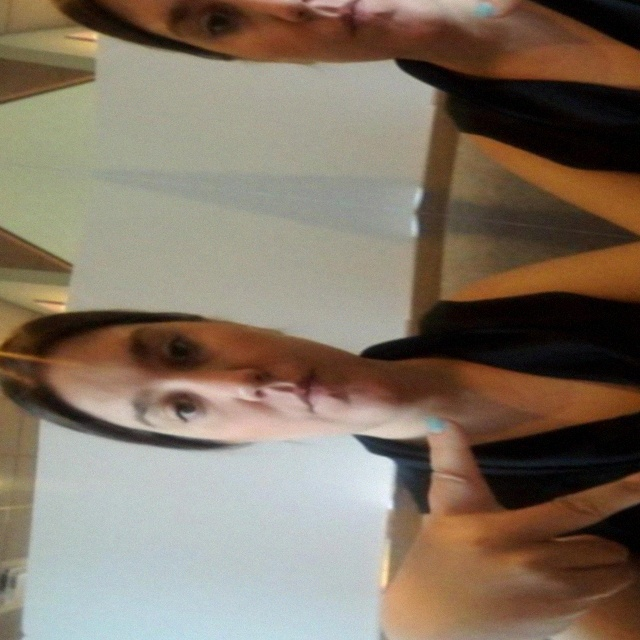Scissors: (310, 387, 640, 640)
